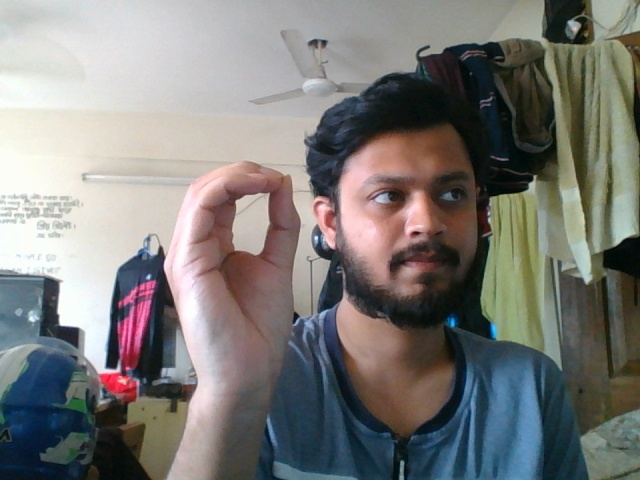oo: (156, 153, 308, 425)
